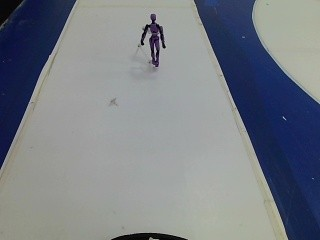pedestrian: (137, 9, 166, 70)
